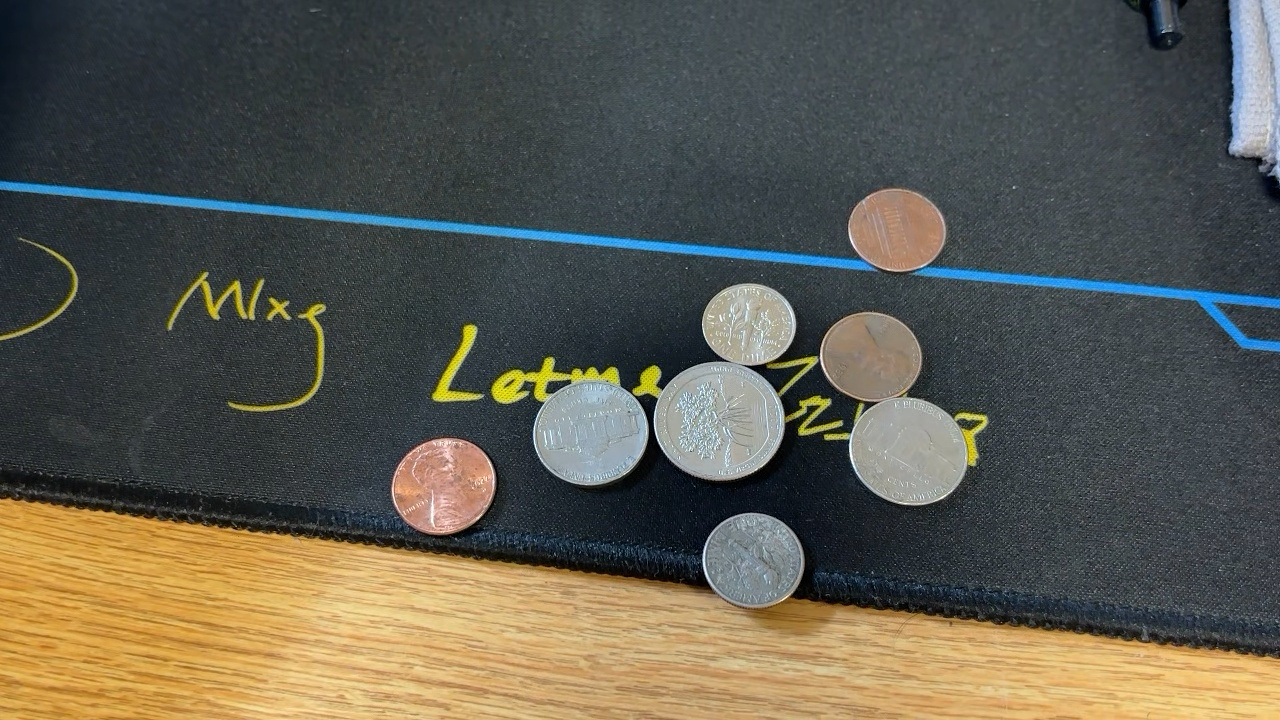dime: (702, 510, 809, 613), (699, 282, 795, 364)
nickel: (844, 398, 972, 509), (525, 380, 650, 490)
penny: (386, 434, 498, 537), (816, 304, 924, 404), (845, 185, 947, 274)
quarter: (653, 361, 787, 484)
